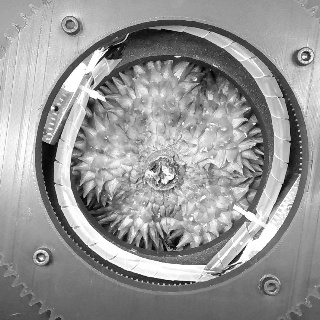base: (137, 144, 188, 201)
end: (144, 155, 179, 191)
